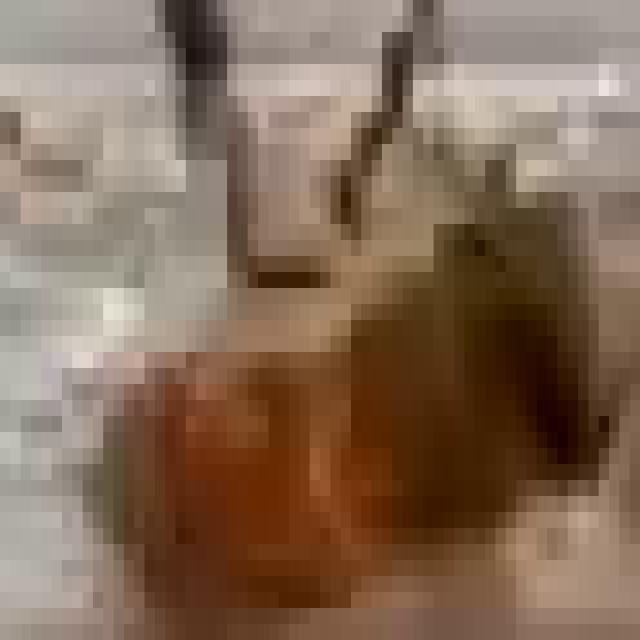honeybee: (91, 77, 600, 624)
